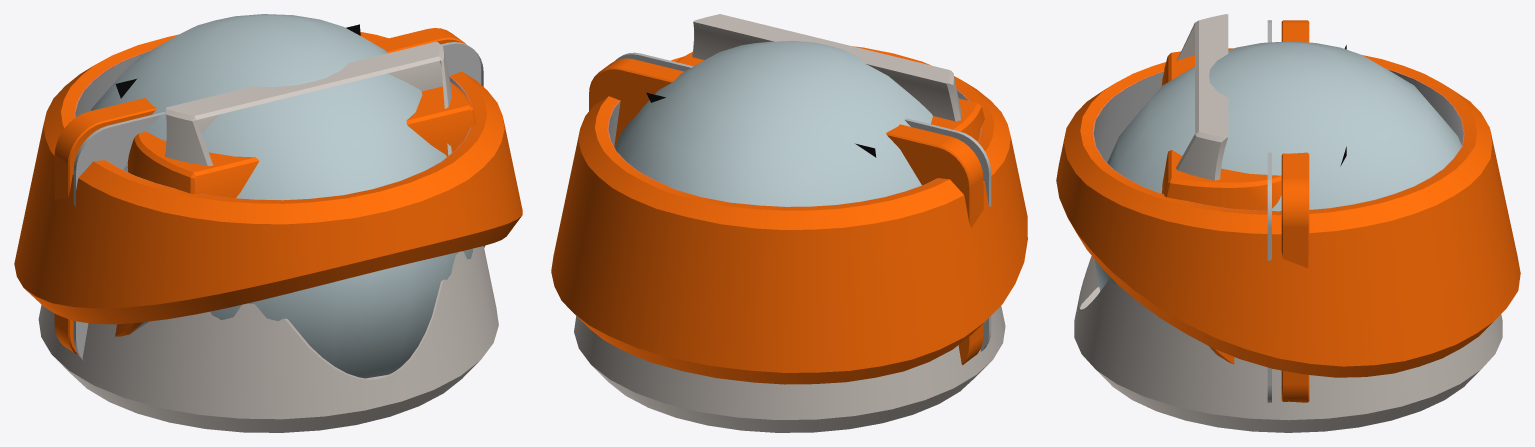
The model's file is robot.gltf.
3 renders of one model, left to right at view 1: azimuth 30°, elevation 25°; view 2: azimuth 150°, elevation 25°; view 3: azimuth 270°, elevation 25°, orthographic. The views are drawn at different scales.
Parts seen in each view (by area): view 1: Middle_Section_geo, Outer_geo, Body_Case_geo, Face_Case_geo, Back_geo; view 2: Middle_Section_geo, Outer_geo, Body_Case_geo, Face_Case_geo, Back_geo; view 3: Middle_Section_geo, Outer_geo, Body_Case_geo, Face_Case_geo, Back_geo.
Part boxes in pixels (x1,y1,x2,y2): Middle_Section_geo: (14, 32, 522, 324); Outer_geo: (90, 14, 472, 378); Body_Case_geo: (38, 41, 498, 432); Face_Case_geo: (54, 28, 483, 360); Back_geo: (115, 82, 485, 336); Middle_Section_geo: (551, 46, 1027, 384); Outer_geo: (614, 41, 932, 206); Body_Case_geo: (574, 14, 1005, 432); Face_Case_geo: (589, 52, 991, 364); Back_geo: (676, 52, 984, 141); Middle_Section_geo: (1056, 55, 1520, 377); Outer_geo: (1094, 41, 1461, 291); Body_Case_geo: (1074, 14, 1502, 432); Face_Case_geo: (1267, 20, 1309, 402); Back_geo: (1161, 48, 1281, 364).
Size of the model in its own units: 14922 by 10600 by 14480.
Materials: 3 (3 with a texture image).
